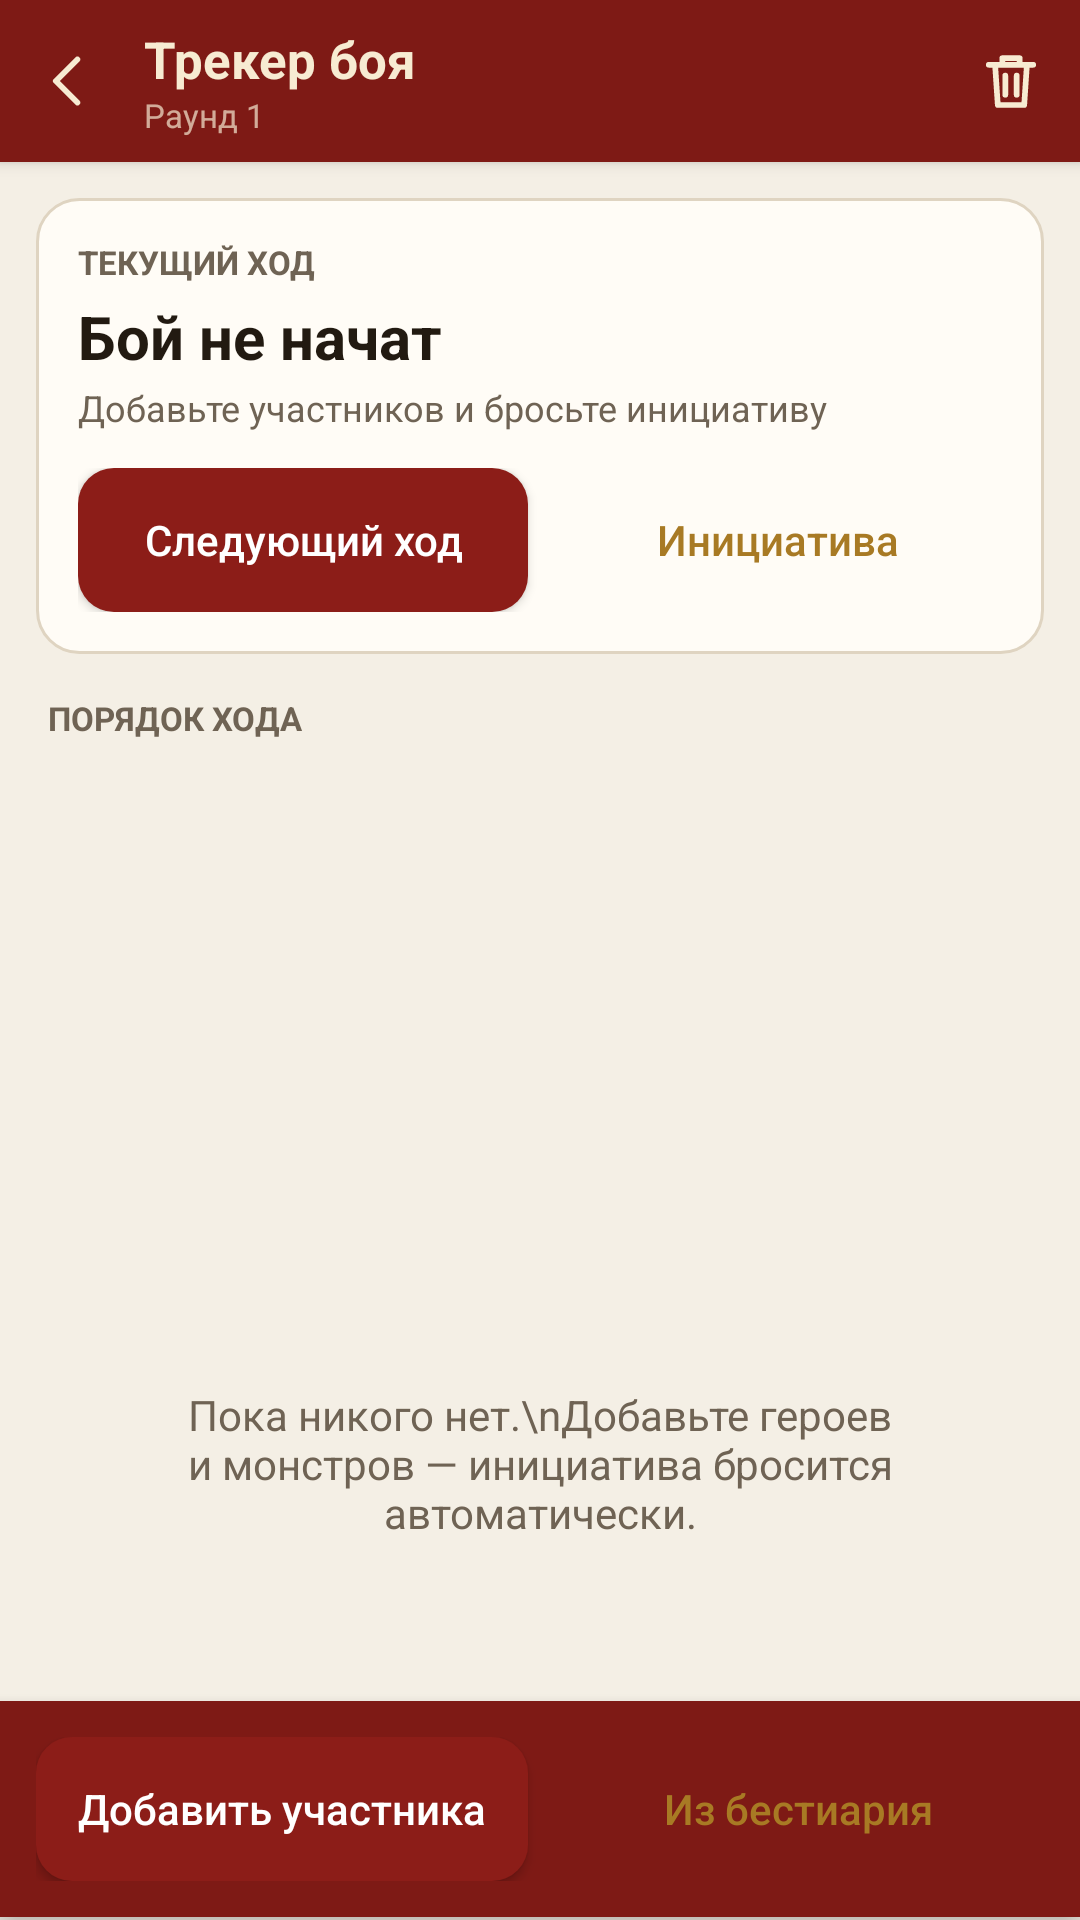

Icon bounding boxes for this 1080w x 1920h phone screenshot, format (x1, y1, x2, y2):
Назад: (52, 56, 81, 106)
